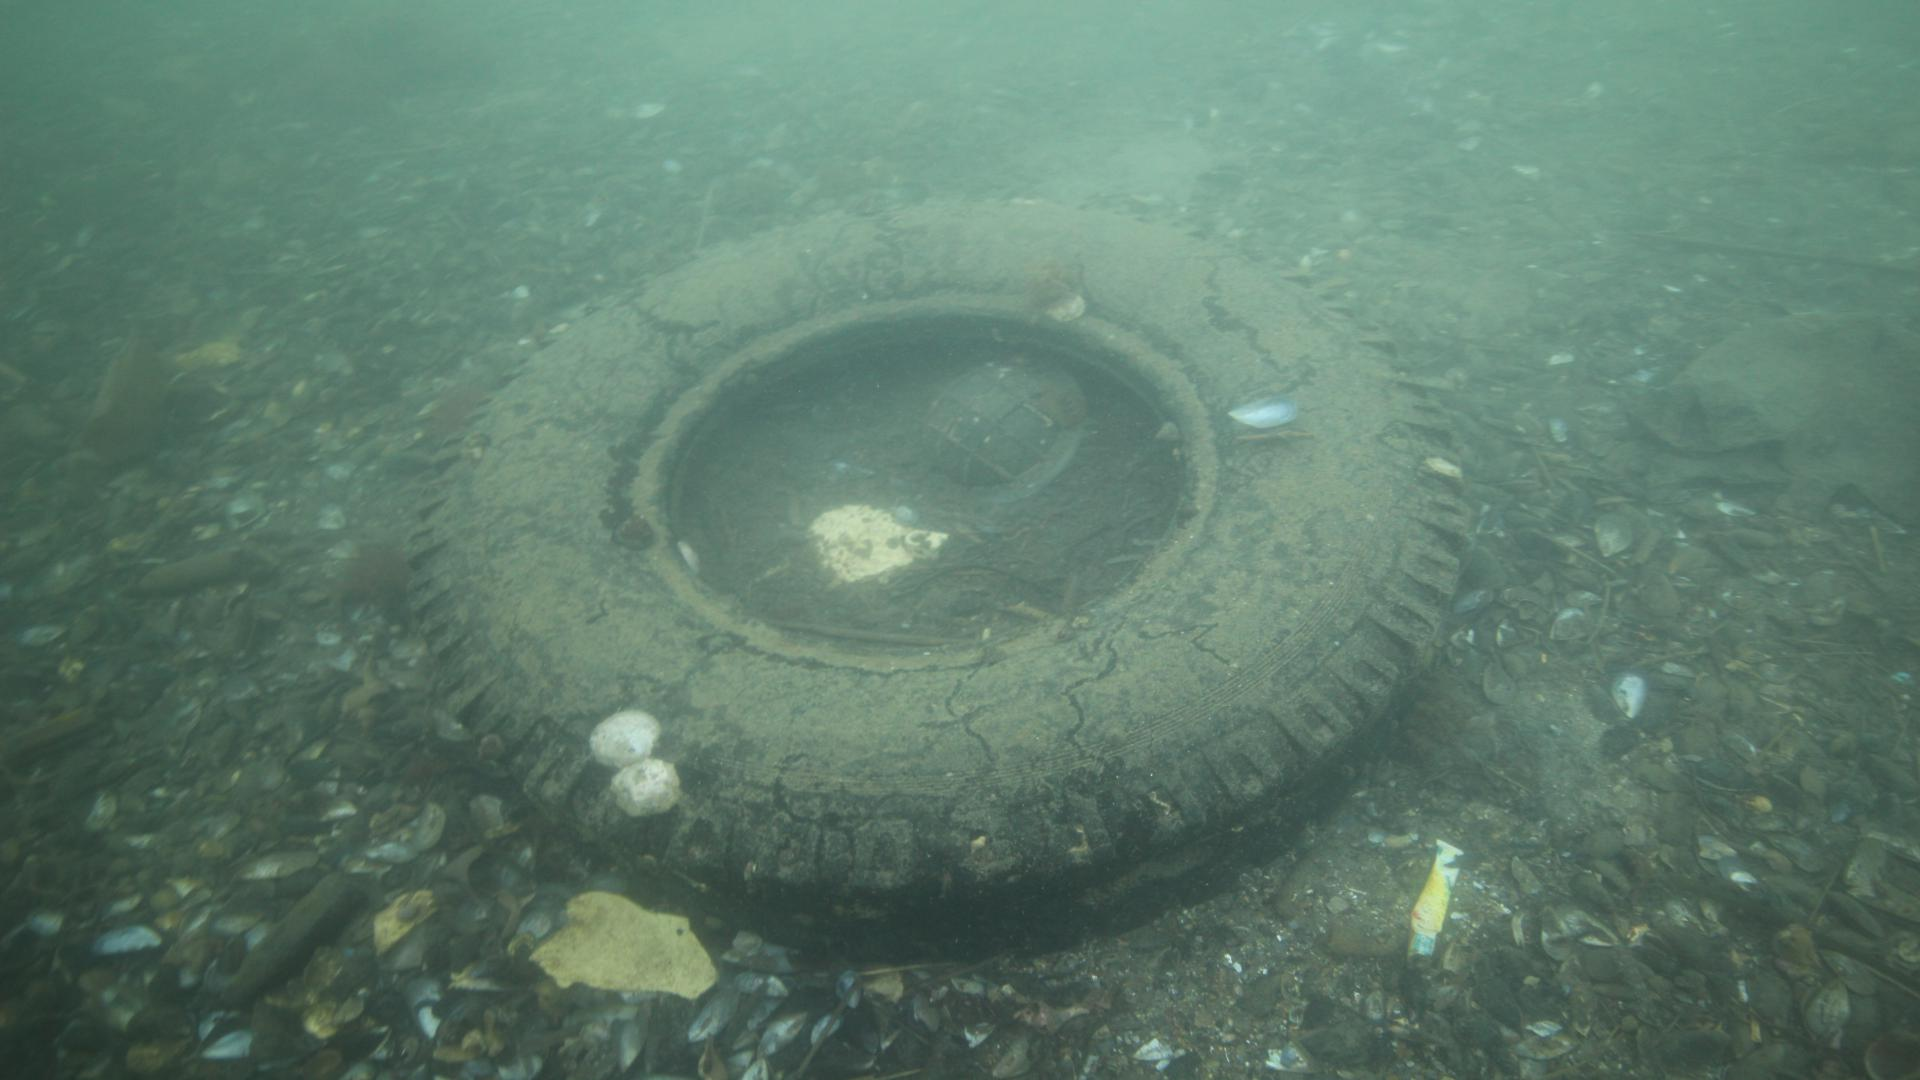tire: (404, 193, 1470, 967)
